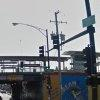Traffic light: (31, 34, 63, 62)
